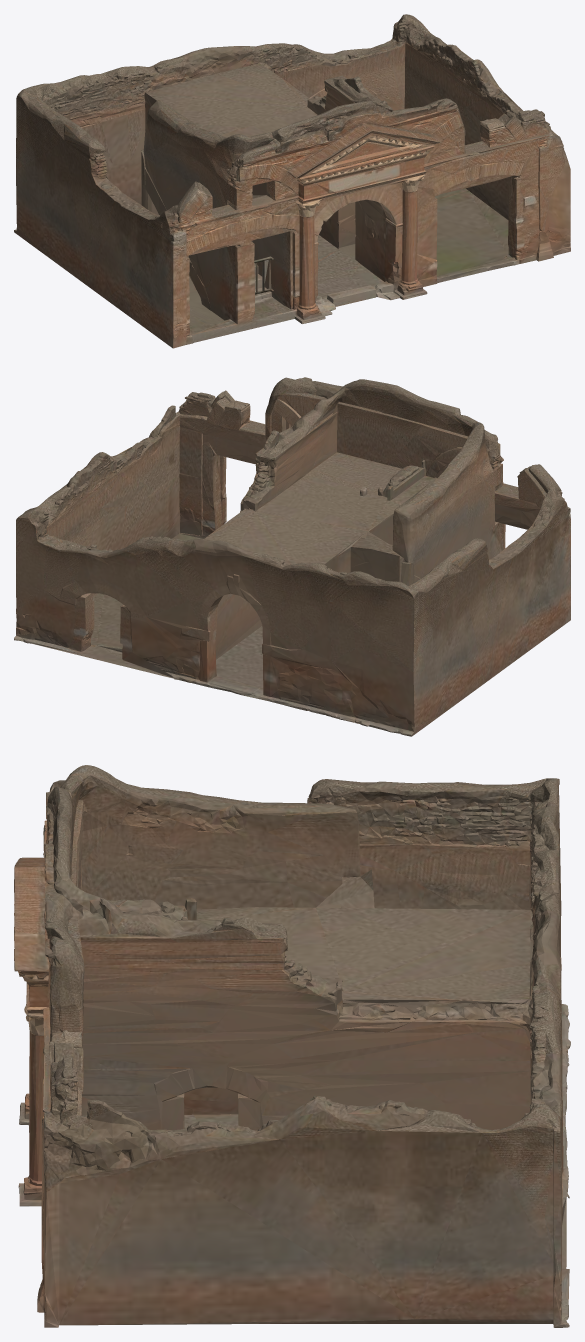
File: horreum_epagathiana_front_a.meshy.reduced.glb
The picture shows the model from 3 angles, top to bottom: view 1: azimuth 30°, elevation 25°; view 2: azimuth 150°, elevation 25°; view 3: azimuth 270°, elevation 25°; orthographic projection. The views are drawn at different scales.
Size of the model in its own units: 1.9 by 0.8985 by 1.4.
Materials: 1 (1 with a texture image).
